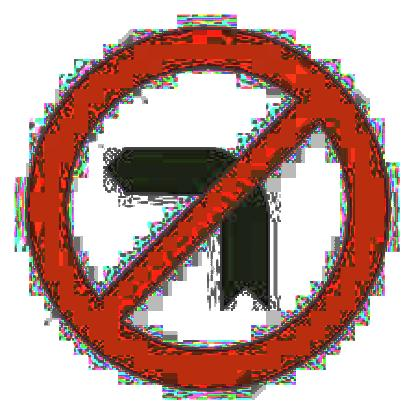No left turn: (24, 29, 401, 390)
